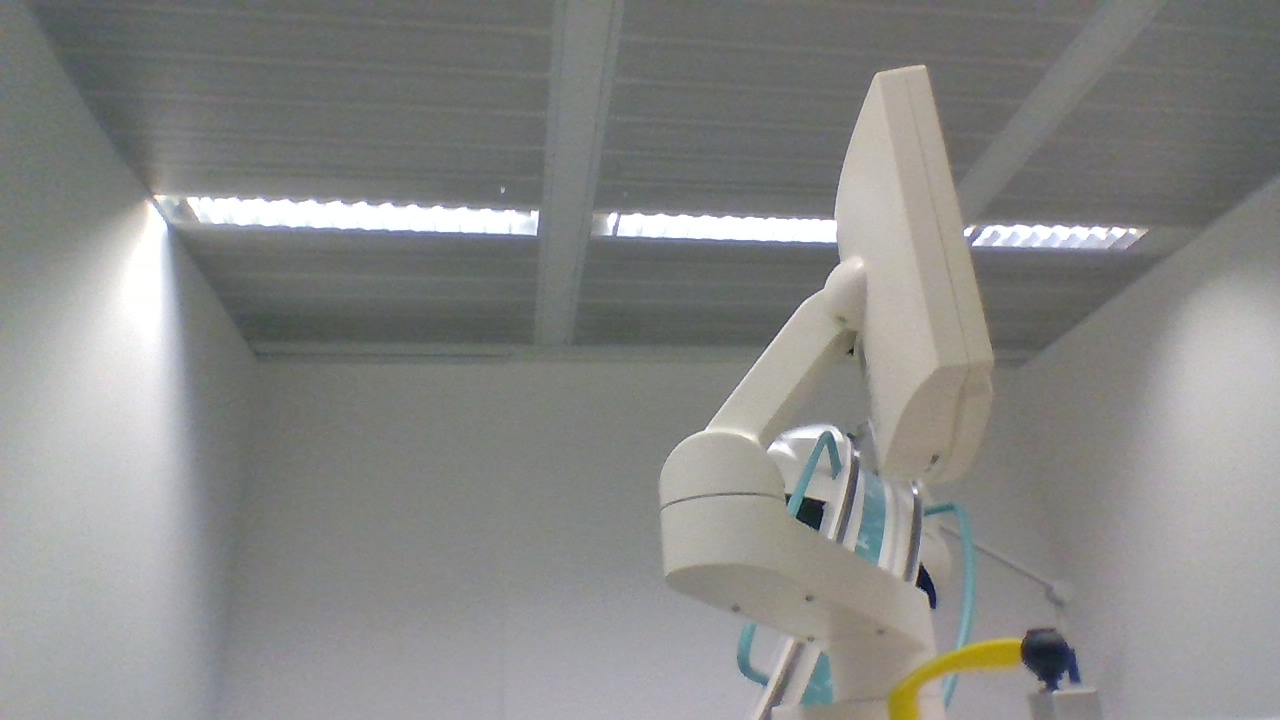carmSCREEN: (832, 62, 996, 486)
